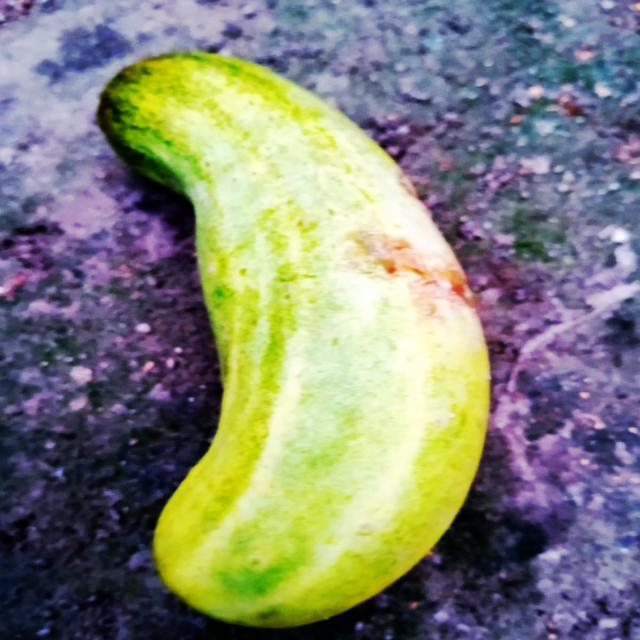Belly-Rot: (338, 170, 476, 328)
